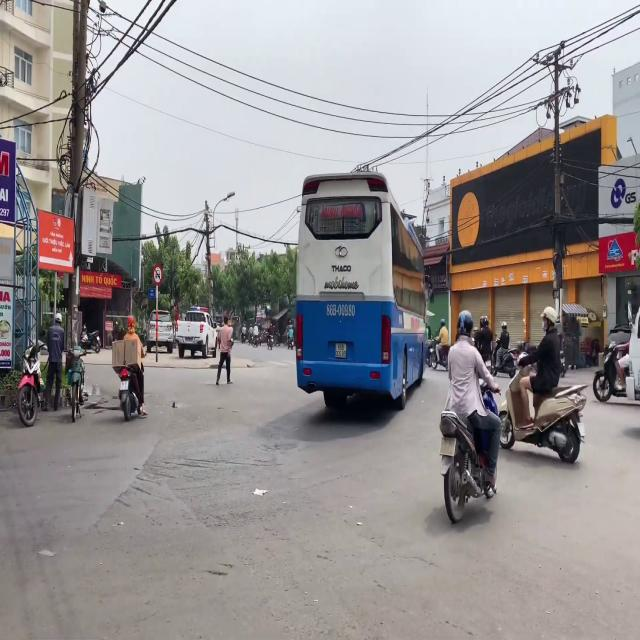bien_trang: (335, 341, 347, 359)
